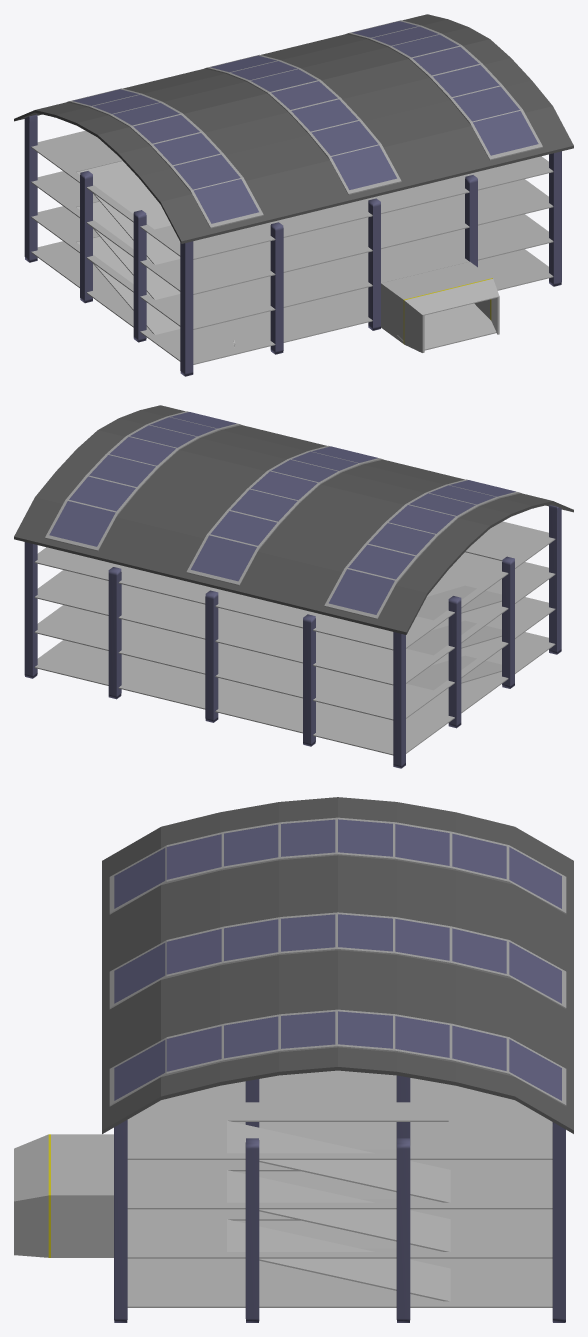
Rendered from building-garage.glb.
3 renders of one model, top to bottom at view 1: azimuth 30°, elevation 25°; view 2: azimuth 150°, elevation 25°; view 3: azimuth 270°, elevation 25°, orthographic. The views are drawn at different scales.
Visible parts, largest first — view 1: Roof, Cube, Pillars, Cube.001; view 2: Roof, Cube, Pillars; view 3: Roof, Cube, Pillars, Cube.001, Cube.004.
Boxes of the visible parts, left/top/right/bottom form: Roof: left=14, top=14, right=573, bottom=243; Cube: left=31, top=130, right=553, bottom=364; Pillars: left=24, top=114, right=561, bottom=376; Cube.001: left=381, top=262, right=499, bottom=352; Roof: left=14, top=405, right=573, bottom=634; Cube: left=34, top=521, right=555, bottom=755; Pillars: left=24, top=505, right=561, bottom=768; Roof: left=102, top=797, right=573, bottom=1133; Cube: left=127, top=1070, right=552, bottom=1307; Pillars: left=114, top=1075, right=565, bottom=1322; Cube.001: left=14, top=1134, right=113, bottom=1257; Cube.004: left=259, top=1122, right=396, bottom=1248.
Bounding box in the file's own units: 40 × 18.17 × 35.09.
